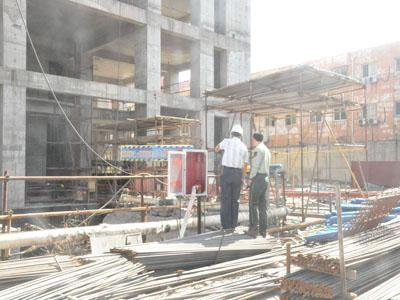helmet: (232, 126, 246, 138)
